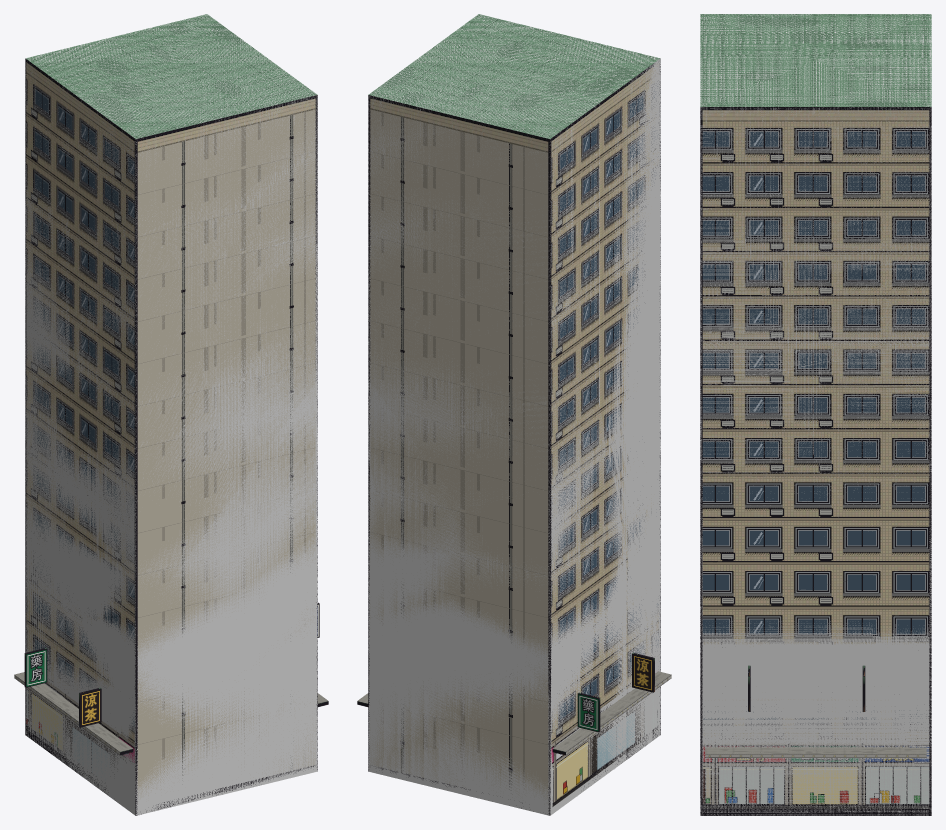
3 views of the same model, side by side, from view 1: azimuth 30°, elevation 25°; view 2: azimuth 150°, elevation 25°; view 3: azimuth 270°, elevation 25° (orthographic). The views are drawn at different scales.
Parts seen in each view (by area): view 1: 19D-W10, COL_19D-W10_0; view 2: 19D-W10, COL_19D-W10_0; view 3: 19D-W10, COL_19D-W10_0.
Part boxes in pixels (bbox=[...]): 19D-W10: bbox=[14, 14, 328, 815]; COL_19D-W10_0: bbox=[25, 14, 317, 815]; 19D-W10: bbox=[357, 14, 671, 815]; COL_19D-W10_0: bbox=[368, 14, 660, 815]; 19D-W10: bbox=[700, 14, 931, 815]; COL_19D-W10_0: bbox=[700, 14, 931, 815].
Bounding box in the file's own units: 17.2 × 48 × 14.2.
Materials: 1 (1 with a texture image).
